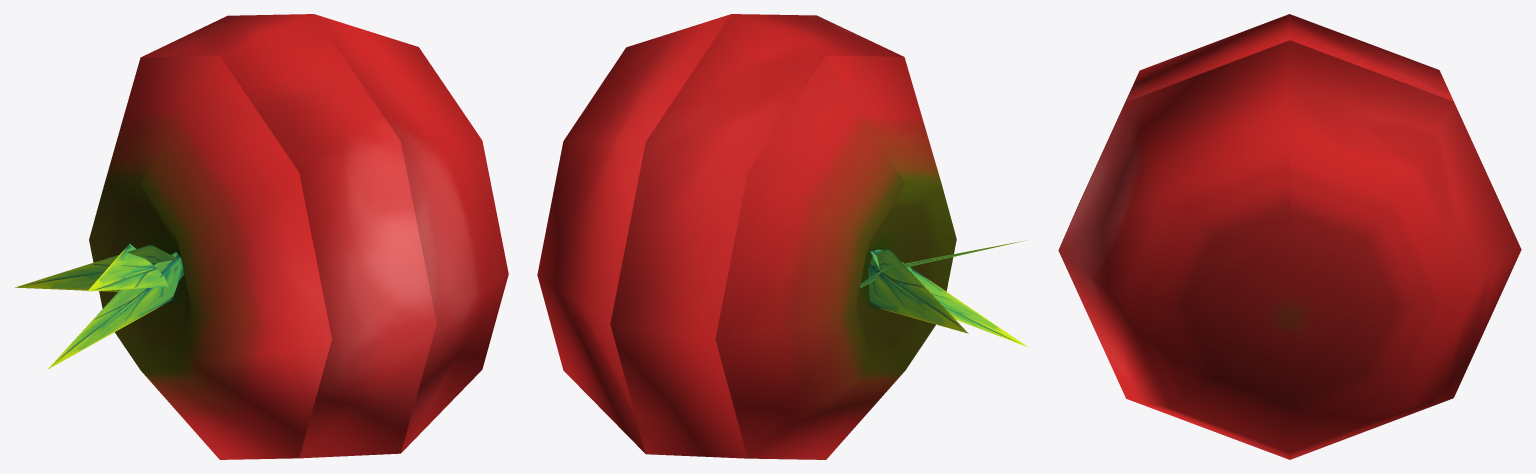
File: Tomato.fbx
3 views of the same model, side by side, from view 1: azimuth 30°, elevation 25°; view 2: azimuth 150°, elevation 25°; view 3: azimuth 270°, elevation 25° (orthographic). The views are drawn at different scales.
Visible parts, largest first — view 1: Tomato_01, Tomato_02, Tomato_03; view 2: Tomato_01, Tomato_02, Tomato_03; view 3: Tomato_03, Tomato_02.
Part boxes in pixels (x1,y1,x2,y2): Tomato_01: [15, 56, 331, 459]; Tomato_02: [141, 14, 436, 459]; Tomato_03: [314, 14, 508, 452]; Tomato_01: [715, 55, 1027, 459]; Tomato_02: [610, 14, 903, 459]; Tomato_03: [537, 14, 730, 453]; Tomato_03: [1058, 40, 1521, 459]; Tomato_02: [1062, 14, 1502, 241].
Bounding box in the file's own units: 20.4 × 19.95 × 19.95.
